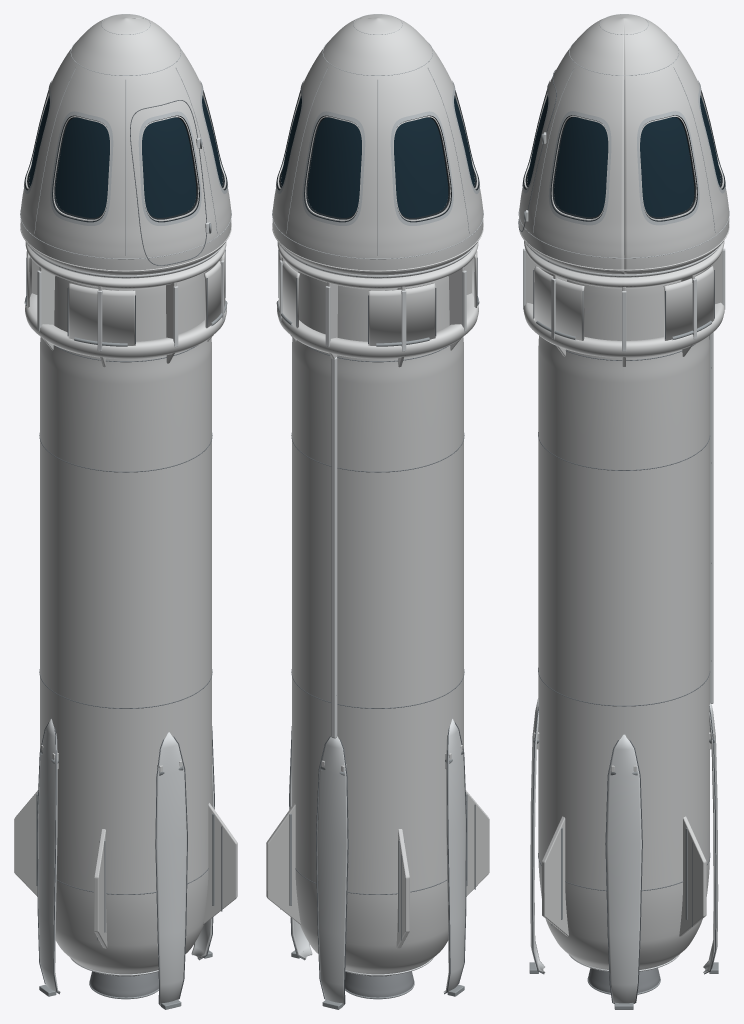
File: new-shepard.glb
3 renders of one model, left to right at view 1: azimuth 30°, elevation 25°; view 2: azimuth 150°, elevation 25°; view 3: azimuth 270°, elevation 25°, orthographic.
Visible parts, largest first — view 1: booster · NS exterior · clean warm white paint, capsule · NS exterior · clean warm white paint, landing-leg-stowed-4 · NS secondary fairings · slightly cool, recovery · NS exterior · clean warm white paint, landing-leg-stowed-3 · NS secondary fairings · slightly cool, crew-window-1 · NS deep blue-grey curved glazing, crew-window-6 · NS deep blue-grey curved glazing, drag-brake-stowed-3 · NS exterior · clean warm white paint, aft-control-fin-4 · NS exterior · clean warm white paint, aft-control-fin-2 · NS exterior · clean warm white paint, BE-3PM · NS nozzle · satin metal surface, capsule · NS rounded edge and window frame · light grey (+13 smaller); view 2: booster · NS exterior · clean warm white paint, capsule · NS exterior · clean warm white paint, landing-leg-stowed-2 · NS secondary fairings · slightly cool, recovery · NS exterior · clean warm white paint, landing-leg-stowed-3 · NS secondary fairings · slightly cool, crew-window-4 · NS deep blue-grey curved glazing, crew-window-5 · NS deep blue-grey curved glazing, drag-brake-stowed-2 · NS exterior · clean warm white paint, booster · NS secondary fairings · slightly cooler white, aft-control-fin-1 · NS exterior · clean warm white paint, aft-control-fin-3 · NS exterior · clean warm white paint, BE-3PM · NS nozzle · satin metal surface (+13 smaller); view 3: booster · NS exterior · clean warm white paint, capsule · NS exterior · clean warm white paint, landing-leg-stowed-1 · NS secondary fairings · slightly cool, recovery · NS exterior · clean warm white paint, crew-window-2 · NS deep blue-grey curved glazing, crew-window-3 · NS deep blue-grey curved glazing, drag-brake-stowed-4 · NS exterior · clean warm white paint, drag-brake-stowed-1 · NS exterior · clean warm white paint, aft-control-fin-1 · NS exterior · clean warm white paint, aft-control-fin-4 · NS exterior · clean warm white paint, booster · NS secondary fairings · slightly cooler white, landing-leg-stowed-4 · NS secondary fairings · slightly cool (+10 smaller).
Boxes of the visible parts, x1,y1,x2,y2 form: booster · NS exterior · clean warm white paint: (40,271,211,974); capsule · NS exterior · clean warm white paint: (20,14,231,275); landing-leg-stowed-4 · NS secondary fairings · slightly cool: (155,732,186,1004); recovery · NS exterior · clean warm white paint: (25,242,226,358); landing-leg-stowed-3 · NS secondary fairings · slightly cool: (38,719,60,993); crew-window-1 · NS deep blue-grey curved glazing: (142,117,196,217); crew-window-6 · NS deep blue-grey curved glazing: (55,117,109,217); drag-brake-stowed-3 · NS exterior · clean warm white paint: (68,283,135,345); aft-control-fin-4 · NS exterior · clean warm white paint: (203,803,237,924); aft-control-fin-2 · NS exterior · clean warm white paint: (14,790,38,896); BE-3PM · NS nozzle · satin metal surface: (90,971,158,999); capsule · NS rounded edge and window frame · light grey: (20,14,231,259); booster · NS exterior · clean warm white paint: (292,271,463,974); capsule · NS exterior · clean warm white paint: (272,14,483,275); landing-leg-stowed-2 · NS secondary fairings · slightly cool: (317,736,348,1004); recovery · NS exterior · clean warm white paint: (277,242,478,358); landing-leg-stowed-3 · NS secondary fairings · slightly cool: (443,719,465,993); crew-window-4 · NS deep blue-grey curved glazing: (307,117,361,217); crew-window-5 · NS deep blue-grey curved glazing: (394,117,448,217); drag-brake-stowed-2 · NS exterior · clean warm white paint: (368,283,435,345); booster · NS secondary fairings · slightly cooler white: (331,357,433,975); aft-control-fin-1 · NS exterior · clean warm white paint: (266,803,300,924); aft-control-fin-3 · NS exterior · clean warm white paint: (465,790,489,896); BE-3PM · NS nozzle · satin metal surface: (345,971,413,999); booster · NS exterior · clean warm white paint: (538,268,709,969); capsule · NS exterior · clean warm white paint: (518,14,729,274); landing-leg-stowed-1 · NS secondary fairings · slightly cool: (606,734,641,1003); recovery · NS exterior · clean warm white paint: (523,241,724,357); crew-window-2 · NS deep blue-grey curved glazing: (554,117,608,217); crew-window-3 · NS deep blue-grey curved glazing: (640,117,694,217); drag-brake-stowed-4 · NS exterior · clean warm white paint: (534,266,584,340); drag-brake-stowed-1 · NS exterior · clean warm white paint: (663,266,714,340); aft-control-fin-1 · NS exterior · clean warm white paint: (679,816,706,936); aft-control-fin-4 · NS exterior · clean warm white paint: (542,816,568,936); booster · NS secondary fairings · slightly cooler white: (568,332,713,971); landing-leg-stowed-4 · NS secondary fairings · slightly cool: (530,698,545,973).
Bounding box in the file's own units: 3.81 × 19.2 × 3.82.
